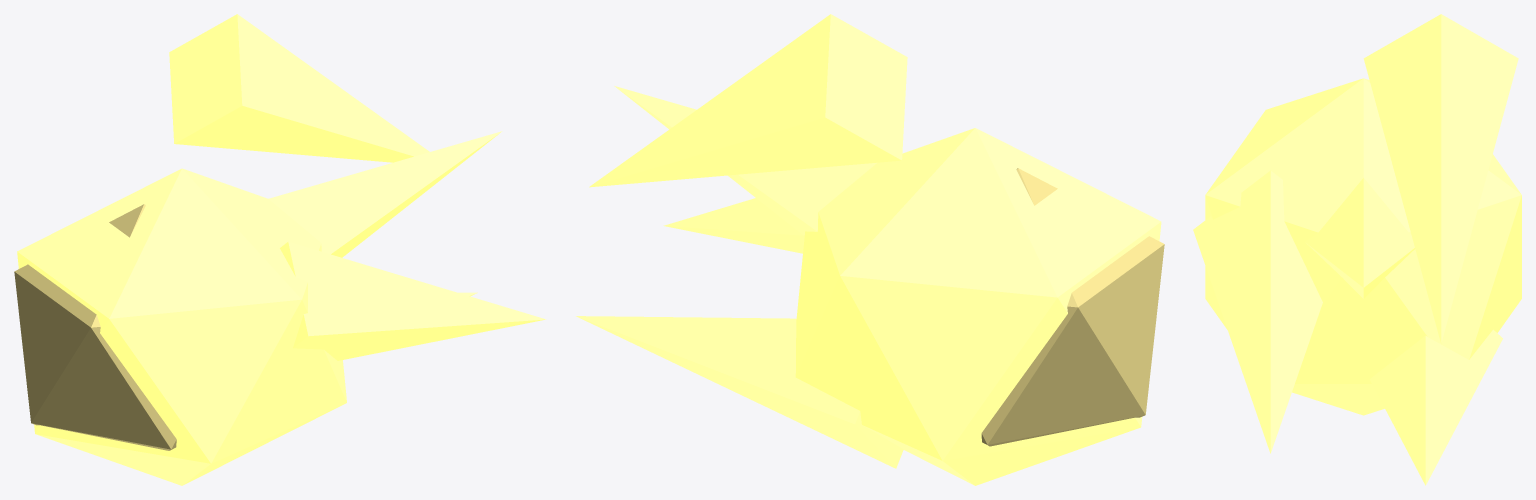
File: FX_Fireball.fbx
3 renders of one model, left to right at view 1: azimuth 30°, elevation 25°; view 2: azimuth 150°, elevation 25°; view 3: azimuth 270°, elevation 25°, orthographic. The views are drawn at different scales.
Parts seen in each view (by area): view 1: FX_Fireball; view 2: FX_Fireball; view 3: FX_Fireball.
Part boxes in pixels (left/top/right/bottom): FX_Fireball: left=14, top=14, right=546, bottom=485; FX_Fireball: left=576, top=14, right=1164, bottom=485; FX_Fireball: left=1193, top=14, right=1521, bottom=485.
Size of the model in its own units: 0.7539 by 0.6391 by 0.4242.
